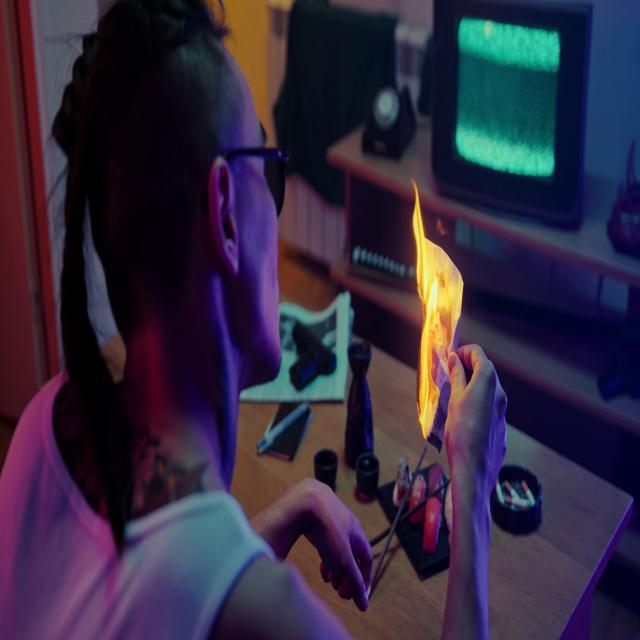Fire: (407, 181, 465, 442)
